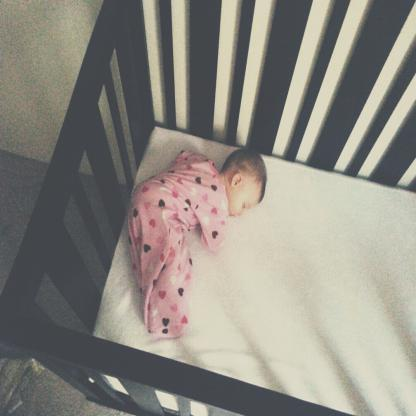baby: (126, 148, 268, 338)
